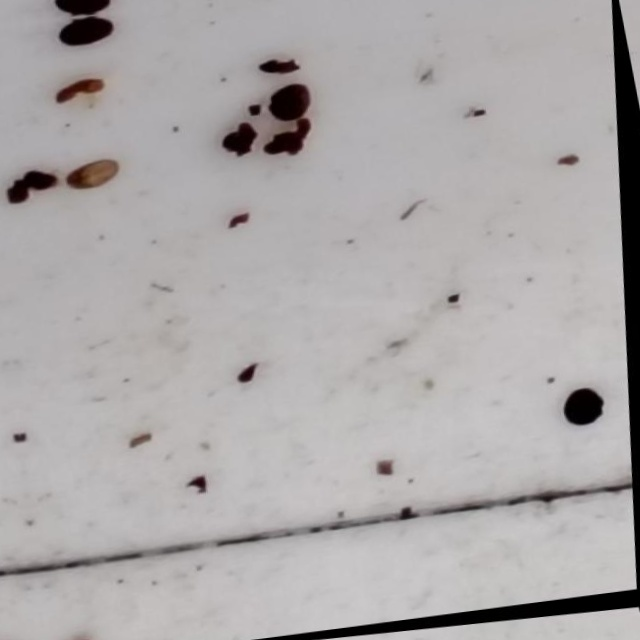varroa: (54, 13, 118, 51), (565, 384, 616, 430), (267, 82, 320, 124)
